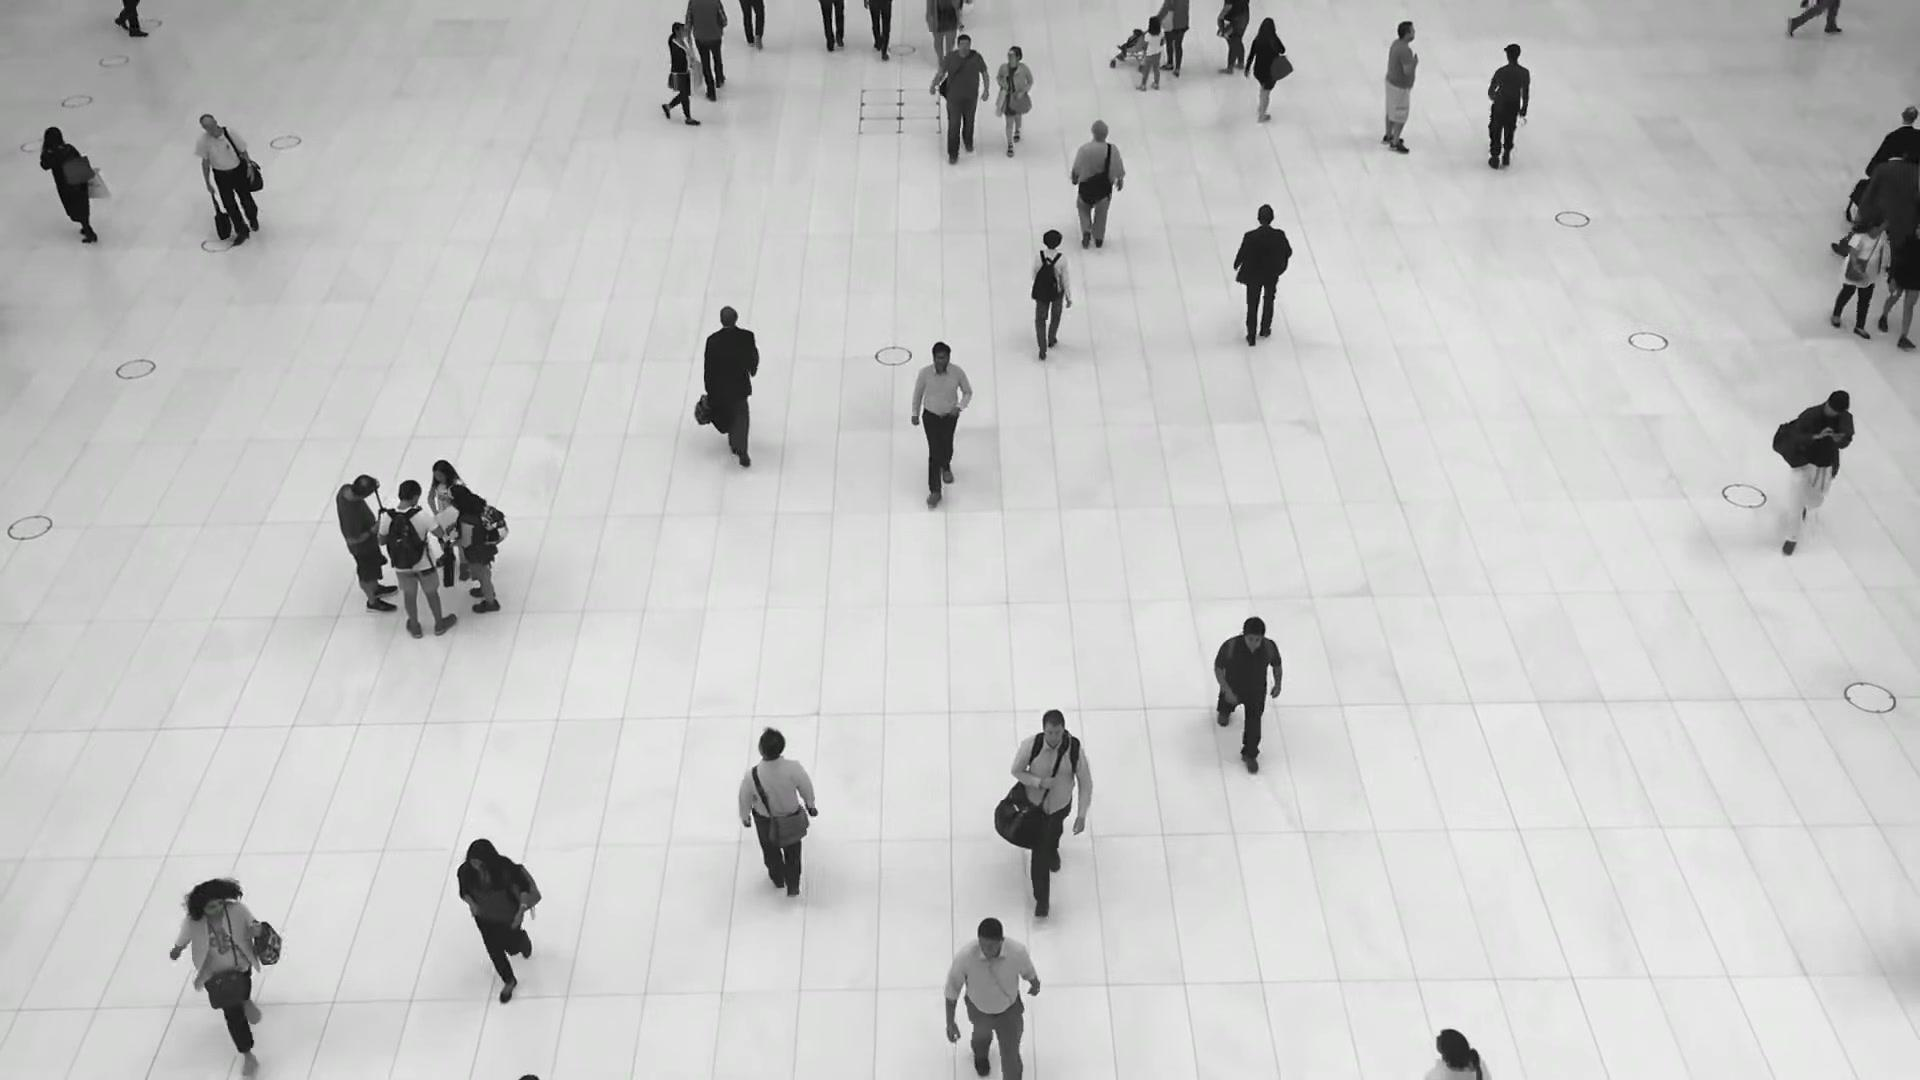person: (170, 876, 265, 1069), (944, 914, 1045, 1080), (1008, 706, 1090, 899), (738, 729, 820, 918), (458, 838, 532, 1023), (377, 478, 459, 638), (1779, 388, 1855, 559), (1207, 611, 1284, 765), (1827, 144, 1920, 259), (702, 307, 761, 477), (910, 340, 970, 500), (335, 467, 400, 612), (195, 114, 261, 252), (1234, 206, 1294, 356), (1068, 122, 1124, 262), (930, 33, 990, 160), (1831, 210, 1889, 335), (39, 126, 98, 246), (449, 482, 501, 613), (1483, 46, 1533, 178), (1027, 230, 1071, 367), (658, 23, 713, 126), (1381, 19, 1419, 153), (1242, 17, 1286, 124), (426, 459, 464, 580), (994, 44, 1034, 157), (684, 0, 728, 101), (1136, 16, 1164, 91)
